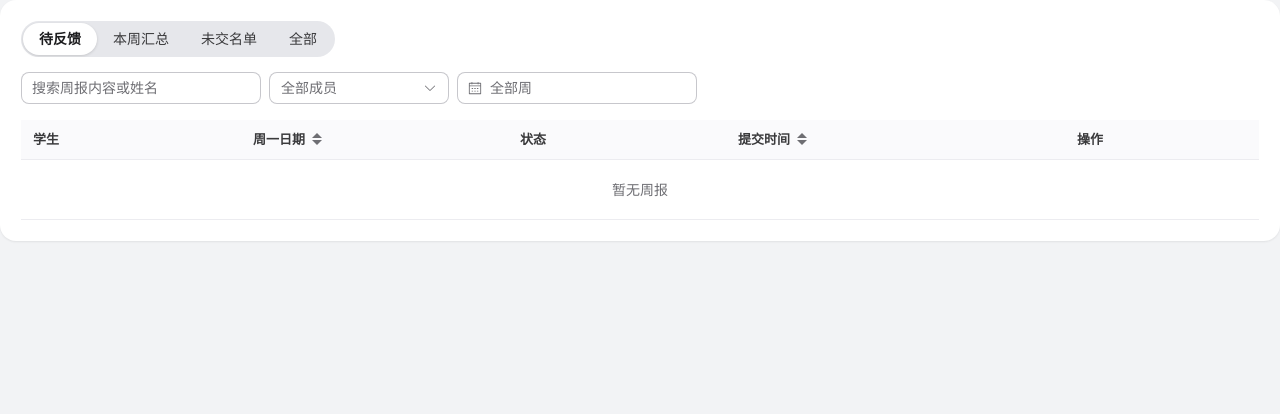
Scenario: ReportsView rapid week switching › only reports everyone submitted after a successful empty response
Click the tab "未交名单" at [229, 38], box [201, 30, 257, 47]
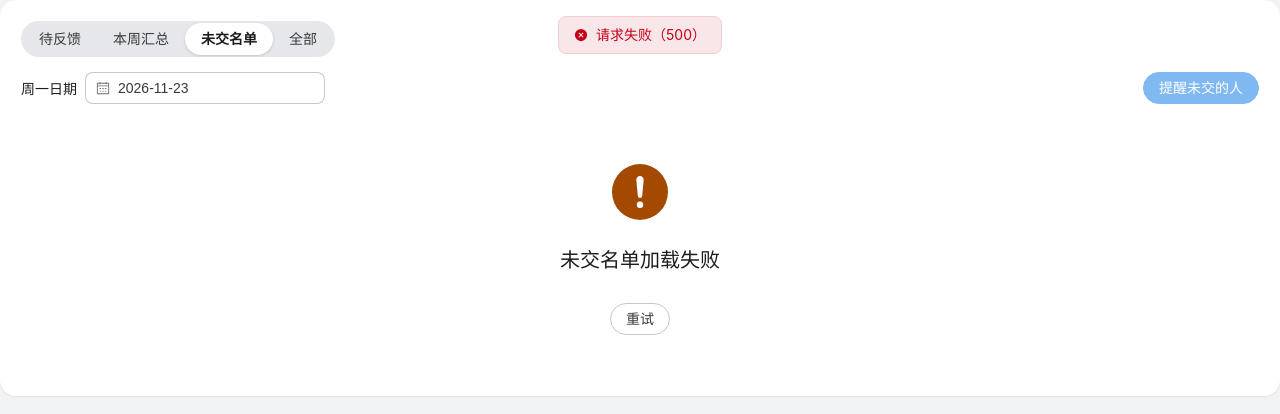
Expected: the text "这一周没有未交的同学" is not shown
Now the text "未交名单加载失败" is shown, box [560, 247, 720, 273]
Click the button "重试" at [640, 319], box [610, 303, 670, 335]
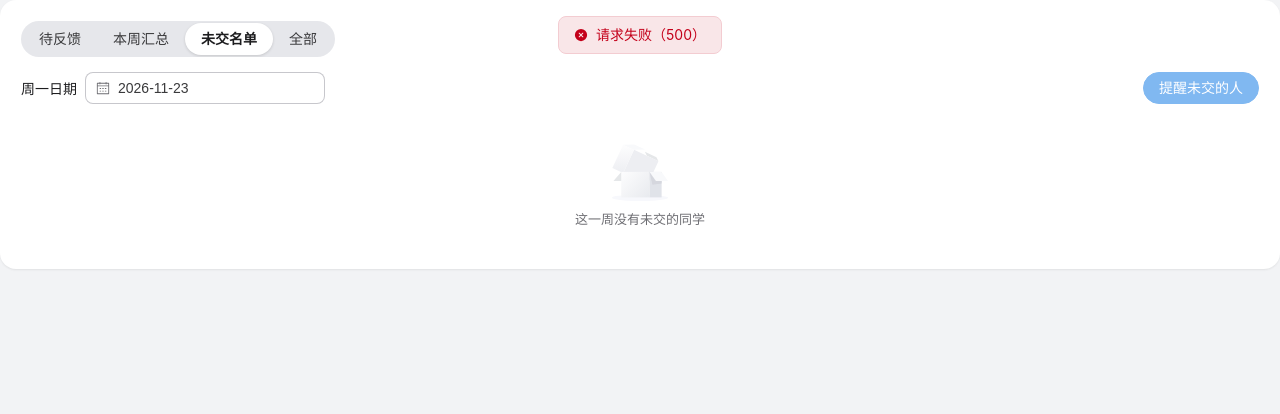
Now the text "这一周没有未交的同学" is shown, box [575, 209, 705, 228]
